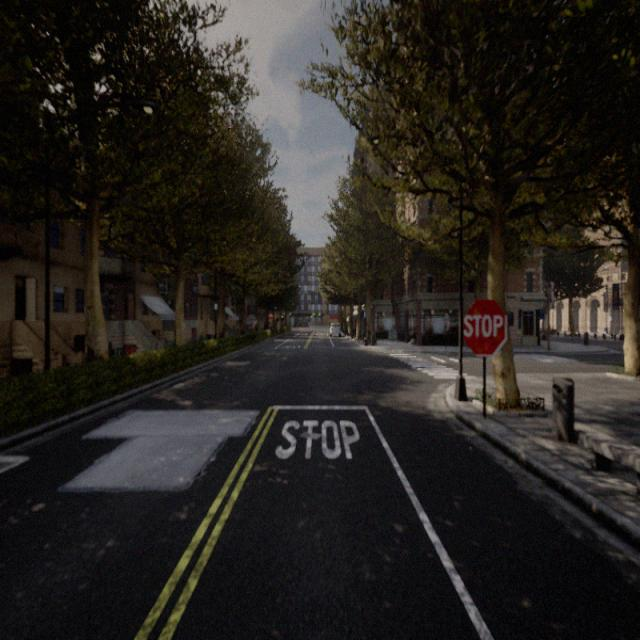stop sign: (460, 296, 509, 358), (462, 310, 504, 340)
